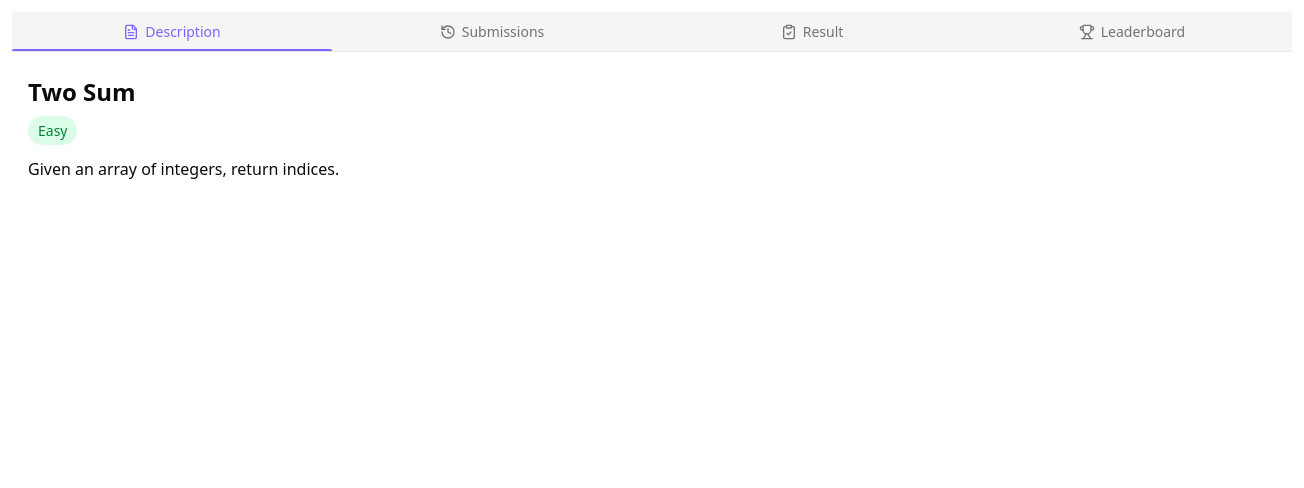
Test case: CodeDescArea — submission detail view › shows back button in submissions detail view
Check: the element with test id "tabs-list" is shown, box [12,12,1292,52]
Click the tab "Submissions" at (492, 32), box [332,12,652,51]
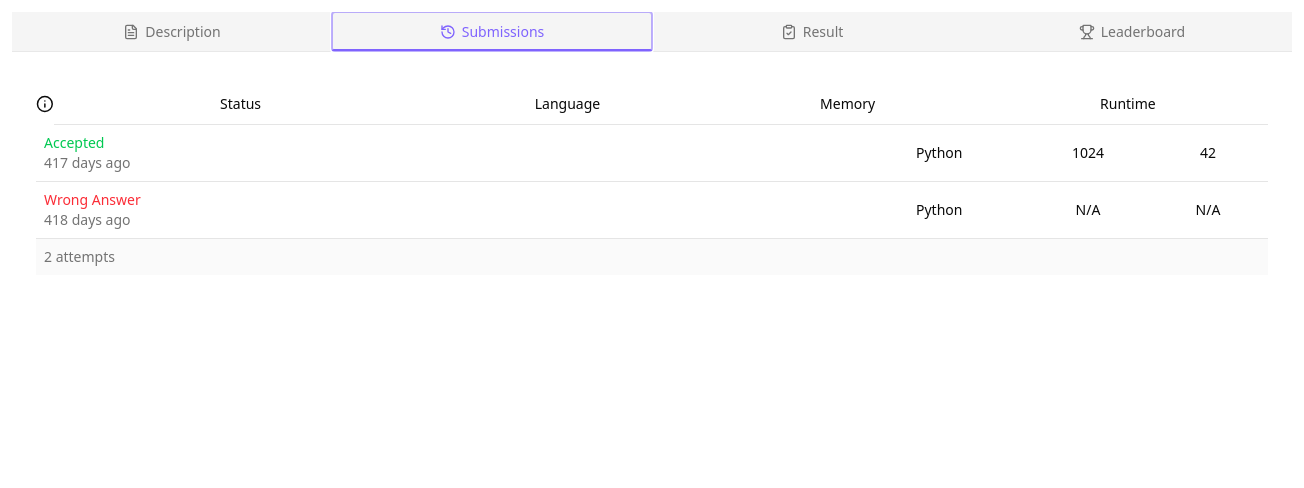
Check: the row with test id "submission-1" is shown
Click the row with test id "submission-1" at (652, 153), box [36,124,1268,181]
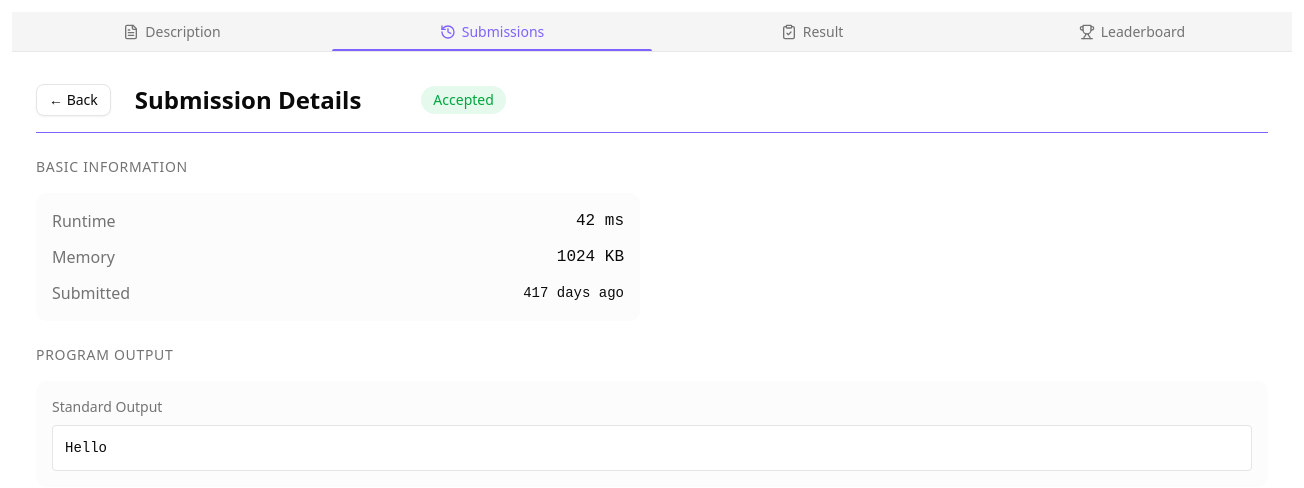
Check: the button with test id "back-btn" is shown, box [36,84,111,116]
